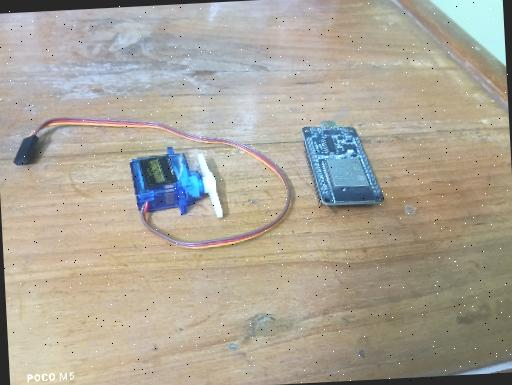Esp32: (300, 116, 384, 210)
Motor: (128, 143, 223, 223)
